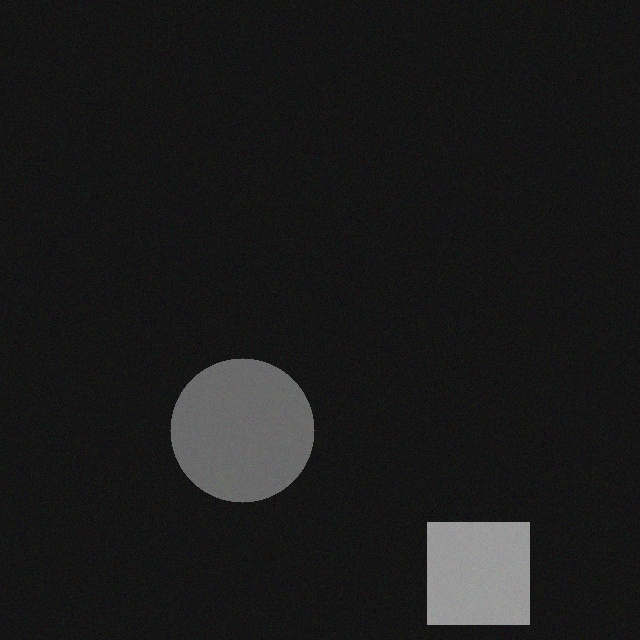circle: (164, 343, 308, 487)
square: (421, 507, 523, 609)
